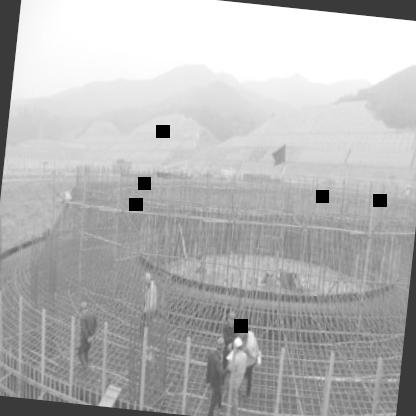helmet: (74, 297, 96, 320), (228, 334, 246, 356), (211, 336, 228, 358), (224, 308, 241, 330), (236, 326, 252, 346), (139, 268, 154, 288)
